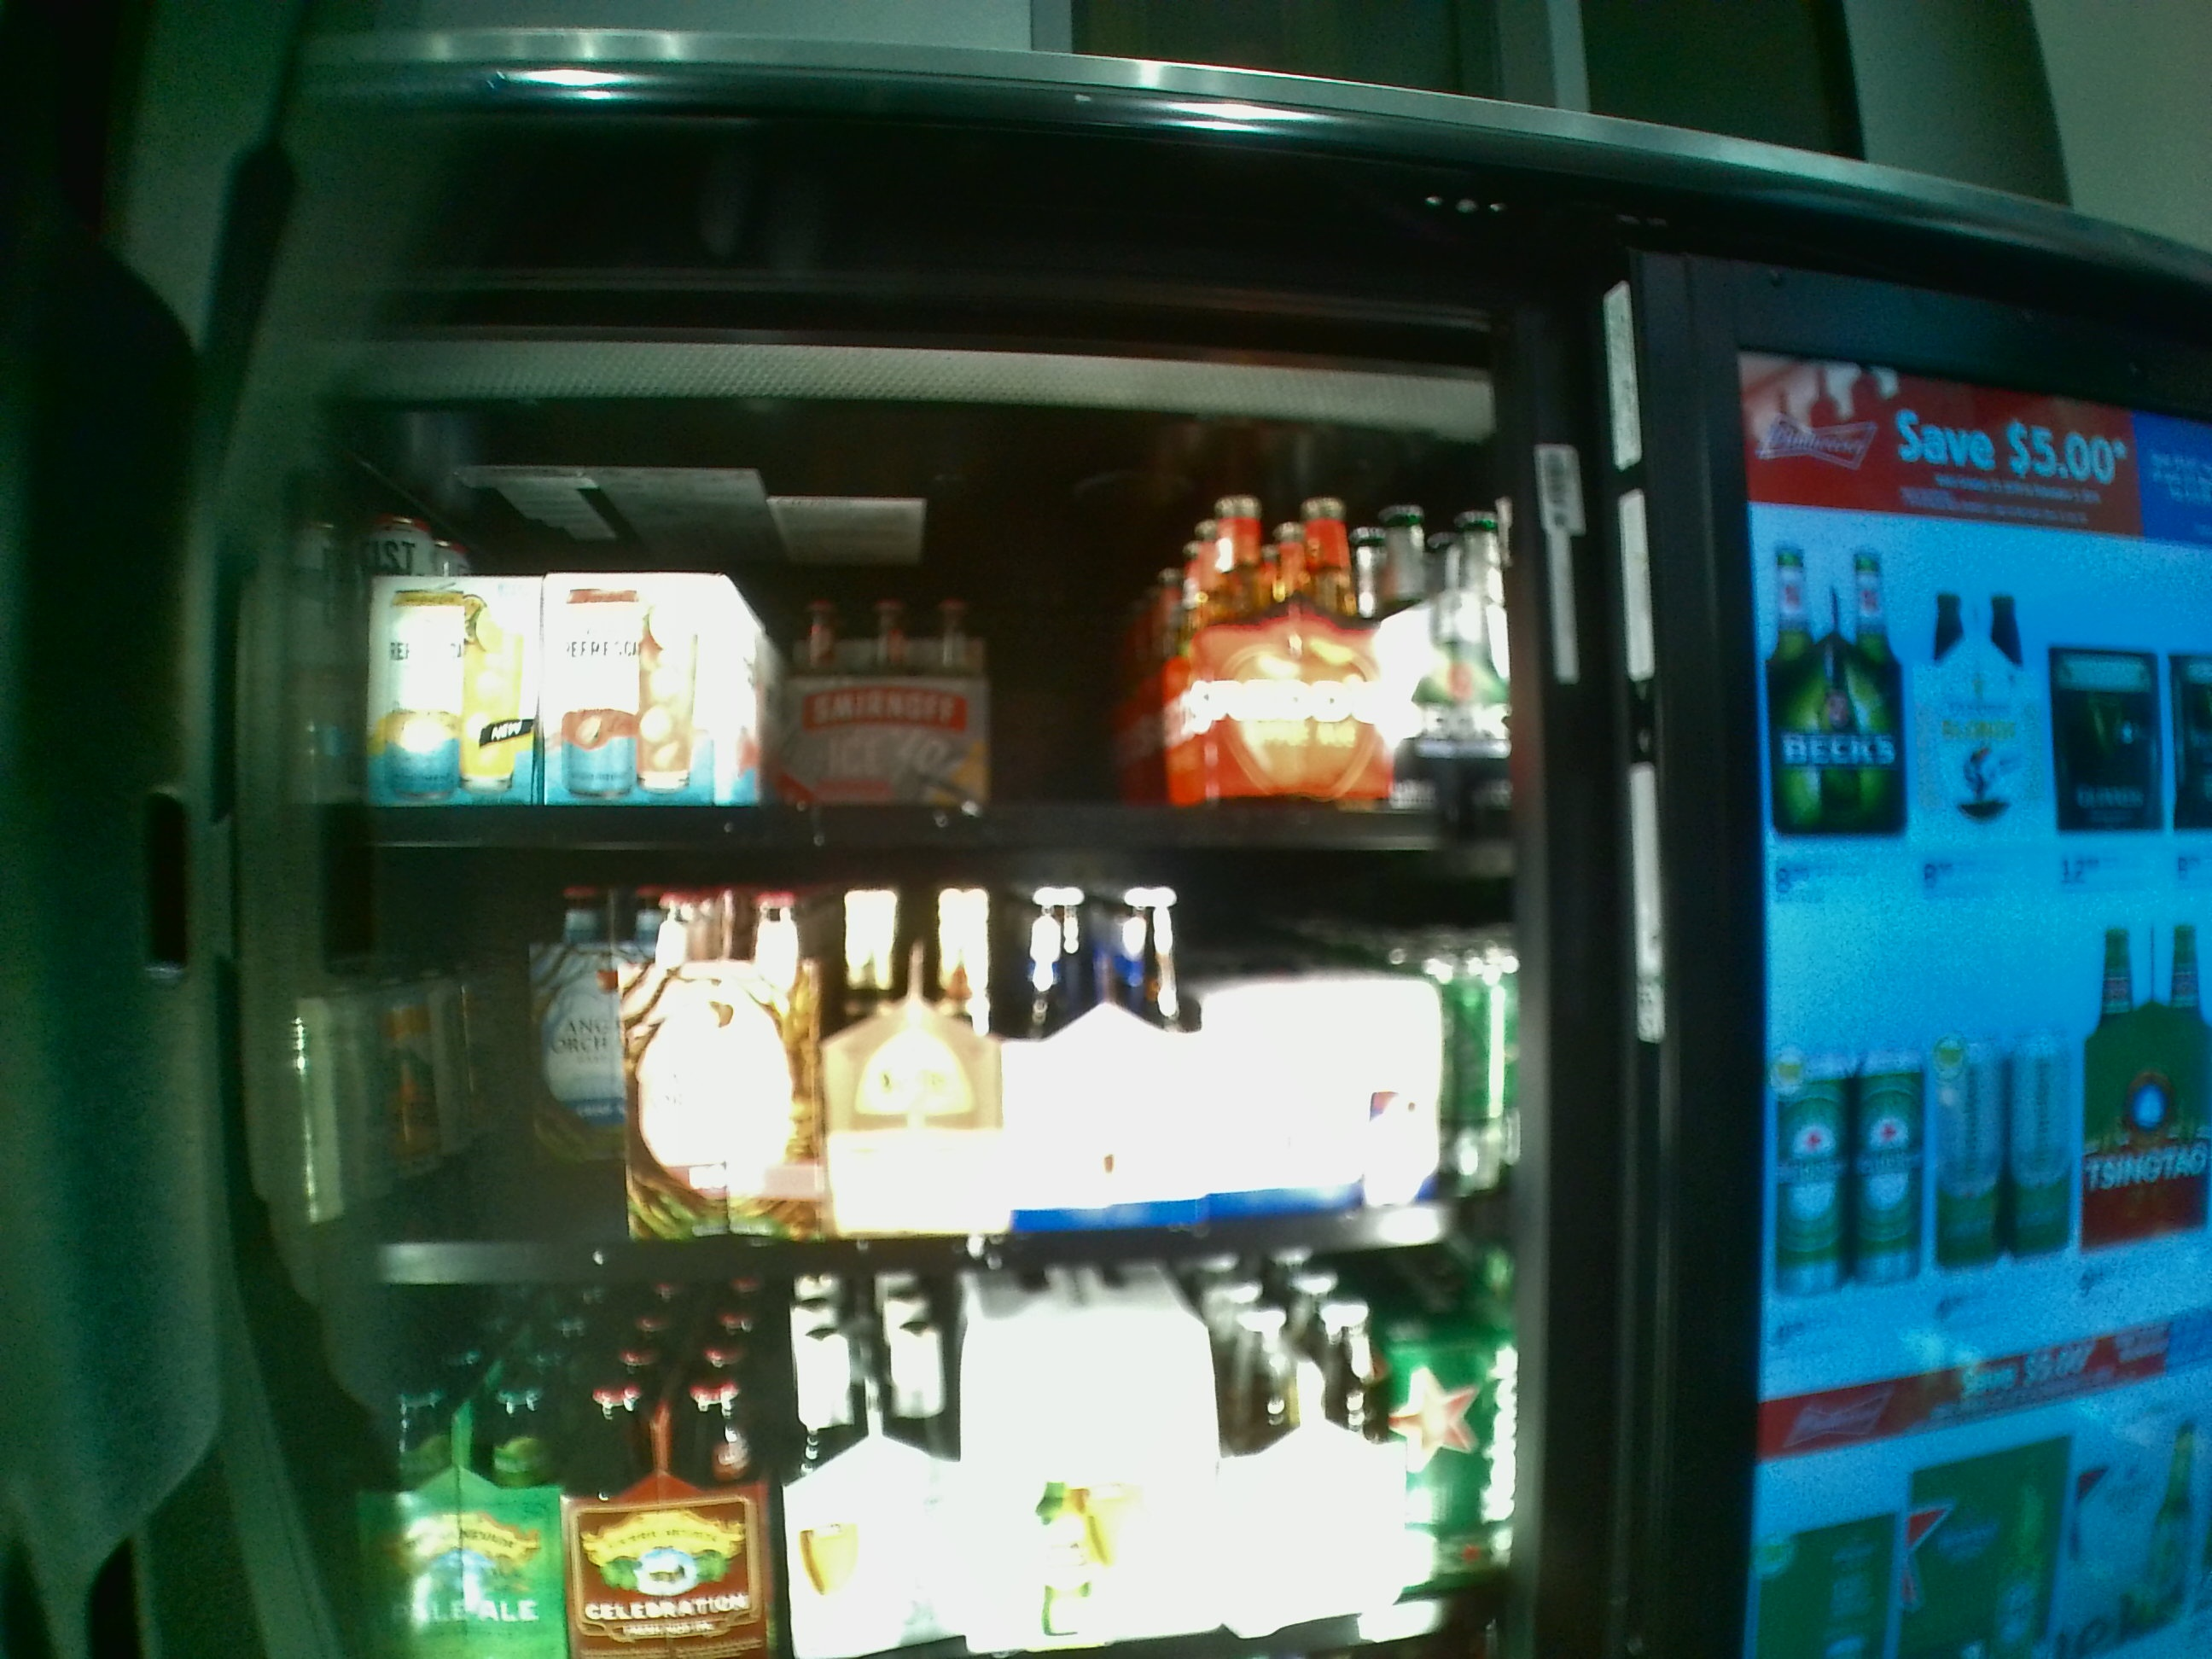shelf: (280, 875, 1514, 1297), (280, 437, 1503, 859)
